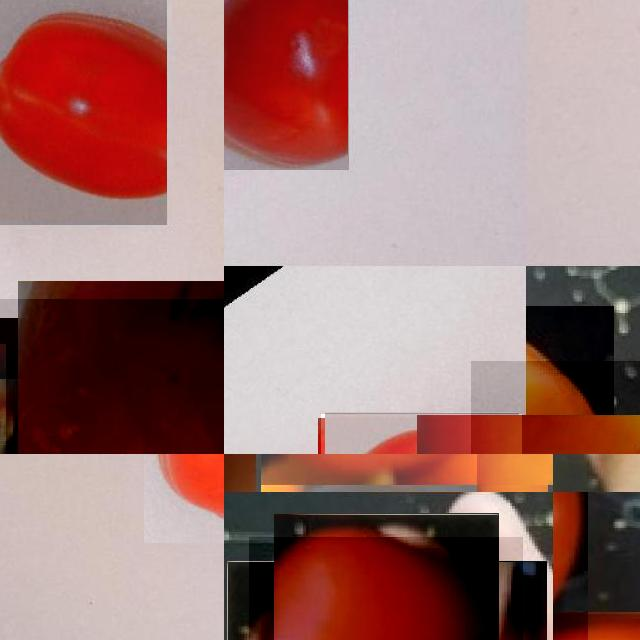Fresh Tomato: (0, 0, 167, 225), (249, 537, 523, 640), (224, 0, 348, 170), (321, 414, 522, 454)
Rotten Tomato: (0, 299, 224, 454), (471, 360, 640, 454)
